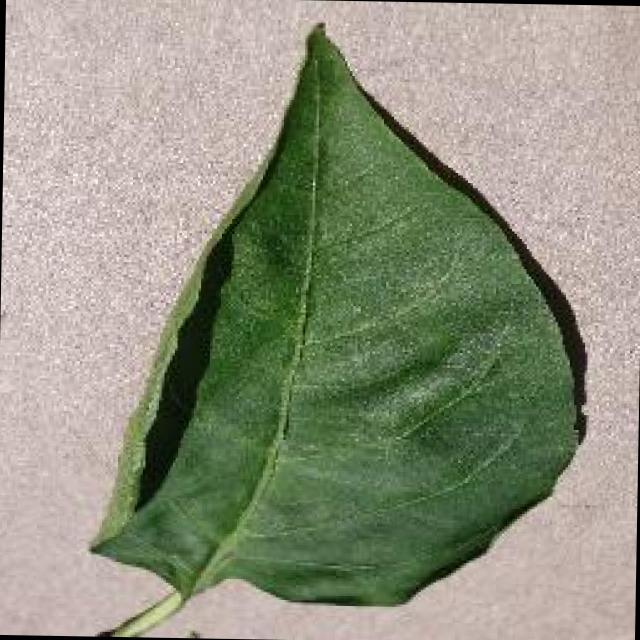Chilli_Healthy: (82, 16, 593, 640)
